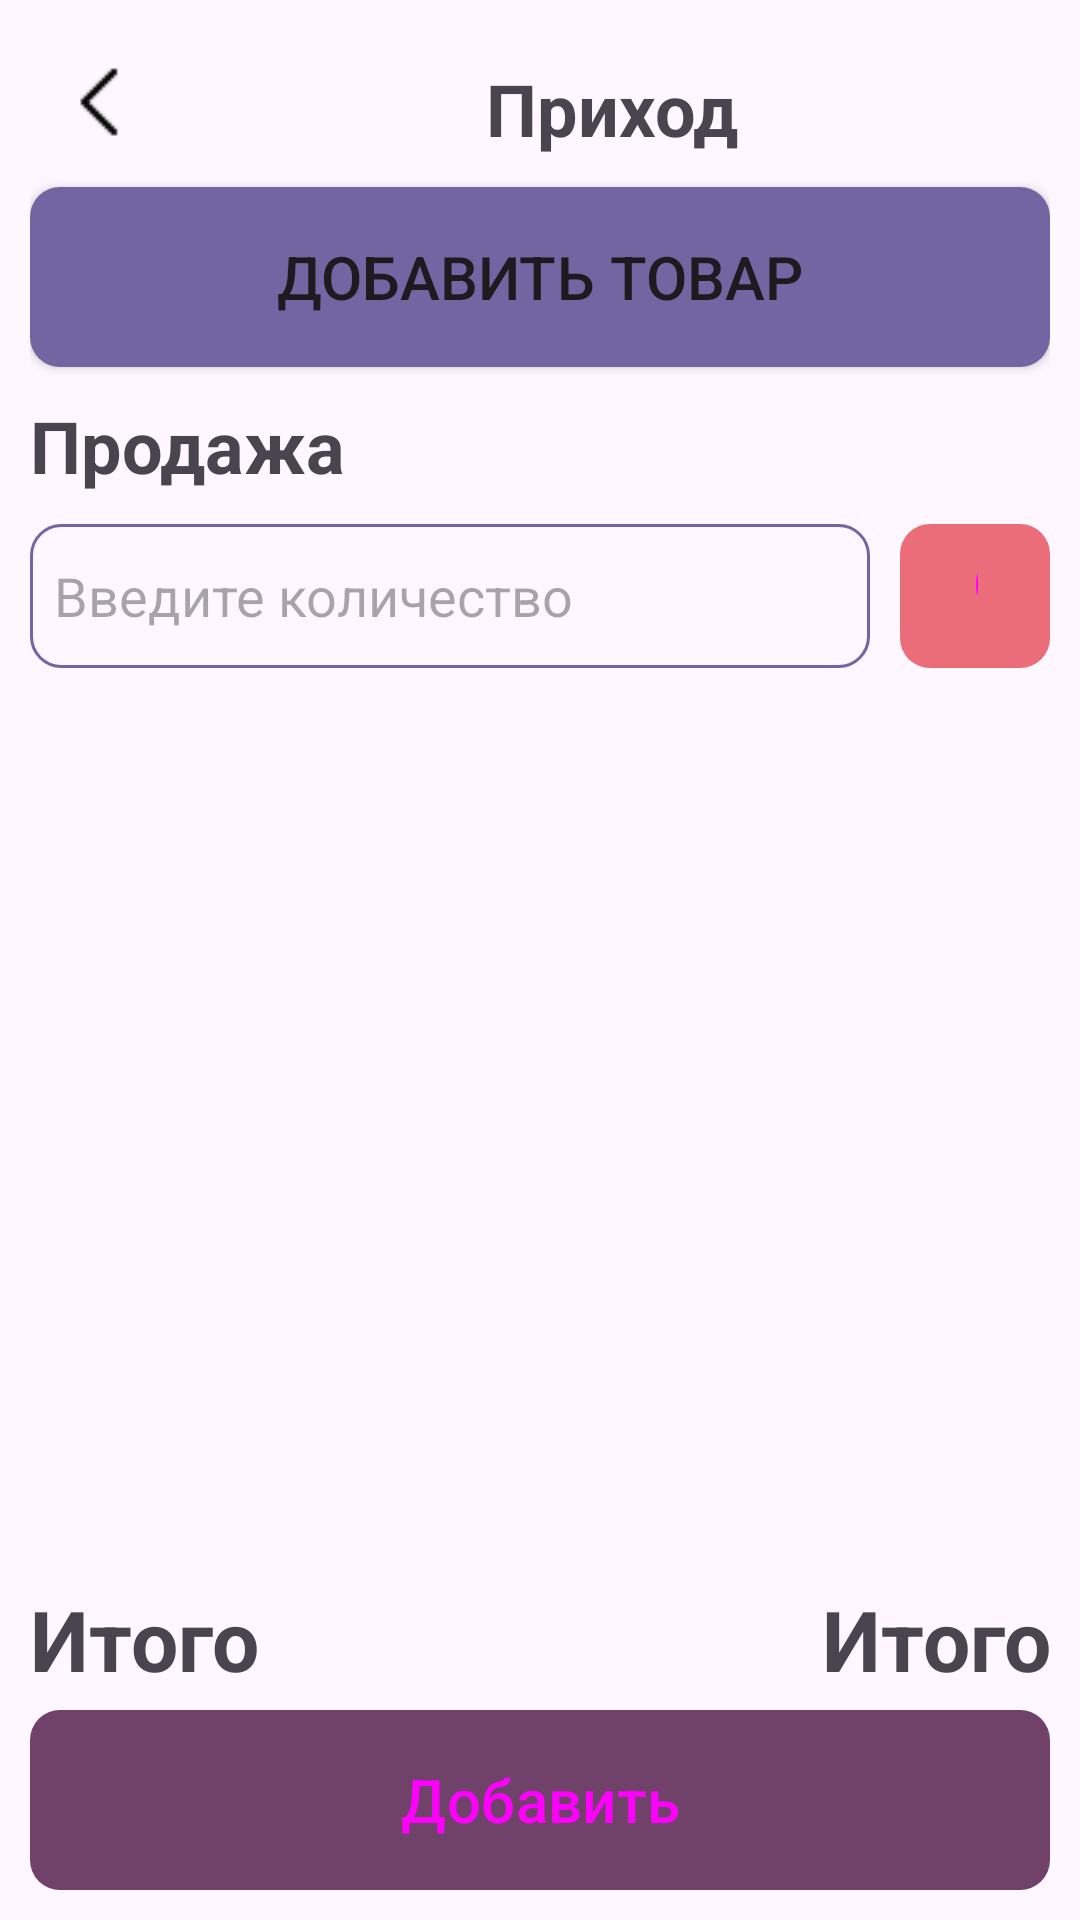

Named icons in this screenshot (1080x1920) and their bounding boxes, BBox(x1, y1, x2, y2):
back: BBox(80, 68, 118, 136)
